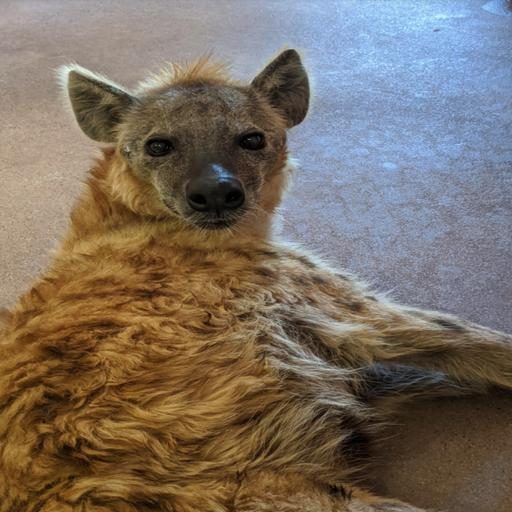Hyena: (0, 42, 511, 512)
